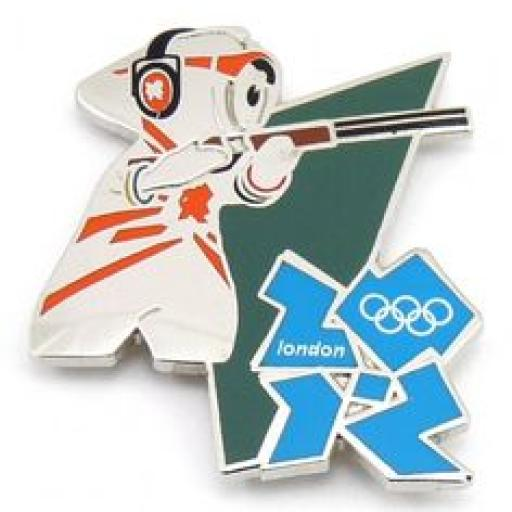shooting: (64, 34, 470, 400)
